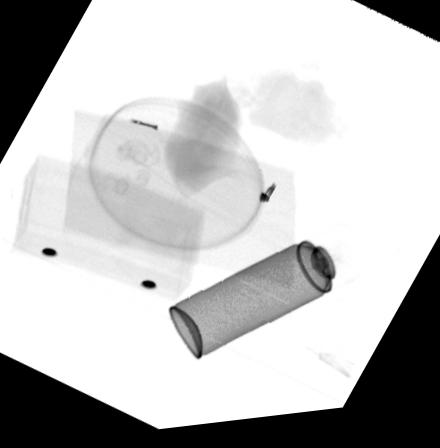Sprayer: (165, 231, 373, 367)
